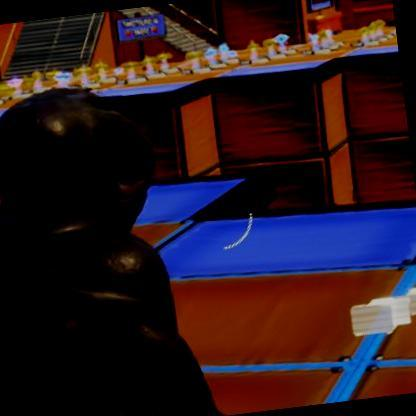person: (0, 78, 187, 416)
